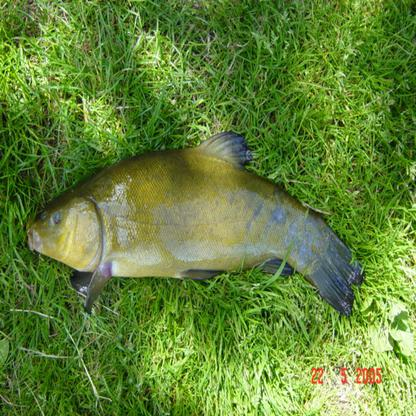fish: (27, 131, 364, 318)
